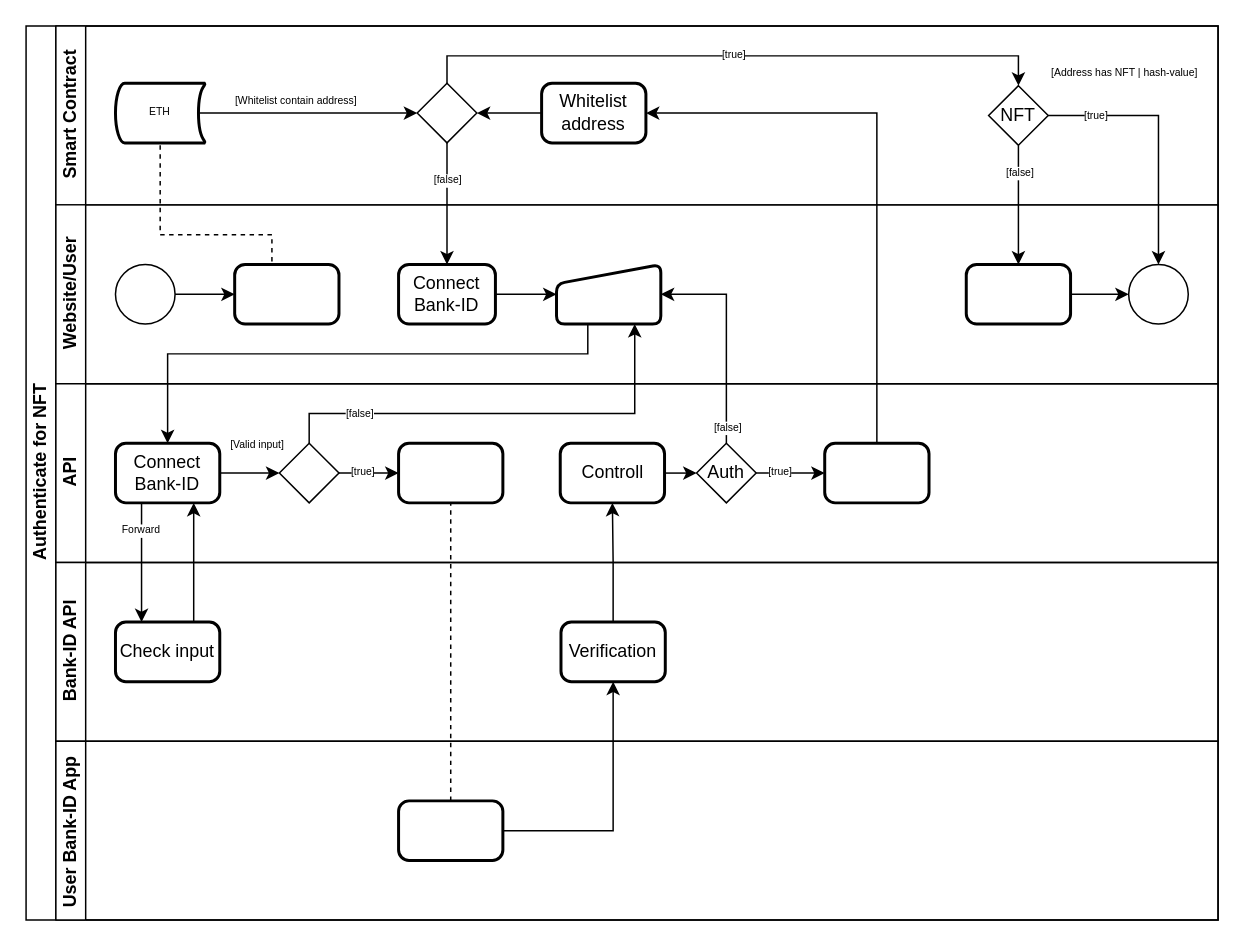
This 1244x946 diagram has some shape labels left out. Each missing label, with the centre of its shape:
Connect Web3 (MetaMask): the point at 286,293
Generate hash-value: the point at 876,472
Mint Personal NFT: the point at 1017,293
personal nbr: the point at 608,293
Sign: the point at 450,830
Start Bank-ID App: the point at 450,472
WL: the point at 446,112
